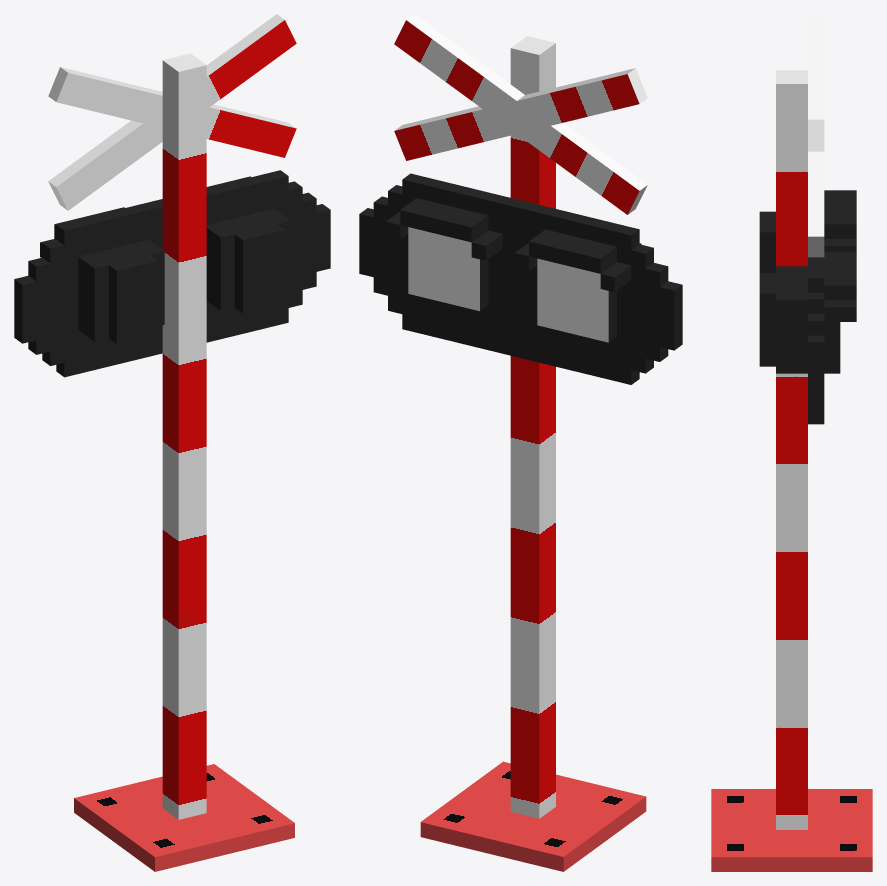
File: polish_crossing_with_cross_1.obj
3 renders of one model, left to right at view 1: azimuth 30°, elevation 25°; view 2: azimuth 150°, elevation 25°; view 3: azimuth 270°, elevation 25°, orthographic. The views are drawn at different scales.
Parts seen in each view (by area): view 1: pole, cube, shield, base, light chamber left, light chamber right; view 2: cube, pole, shield, base, light left, light right, top cover right, top cover left; view 3: pole, base, cube, light chamber right, top cover right, top cover left, light left, shield.
Boxes of the visible parts, x1,y1,x2,y2 form: pole: [162, 53, 206, 819]; cube: [14, 14, 330, 365]; shield: [56, 170, 288, 377]; base: [74, 764, 294, 871]; light chamber left: [78, 239, 164, 341]; light chamber right: [206, 209, 290, 310]; cube: [359, 14, 682, 373]; pole: [510, 36, 555, 818]; shield: [402, 173, 639, 384]; base: [420, 761, 646, 871]; light left: [408, 227, 488, 311]; light right: [537, 258, 616, 342]; top cover right: [400, 198, 488, 242]; top cover left: [529, 229, 616, 273]; pole: [776, 70, 807, 829]; base: [711, 789, 872, 871]; cube: [759, 14, 856, 416]; light chamber right: [776, 266, 807, 373]; top cover right: [824, 251, 856, 300]; top cover left: [824, 190, 856, 238]; light left: [824, 322, 840, 373]; shield: [808, 257, 824, 424].
Bounding box in the file's own units: 1.38 × 3.29 × 0.625.
